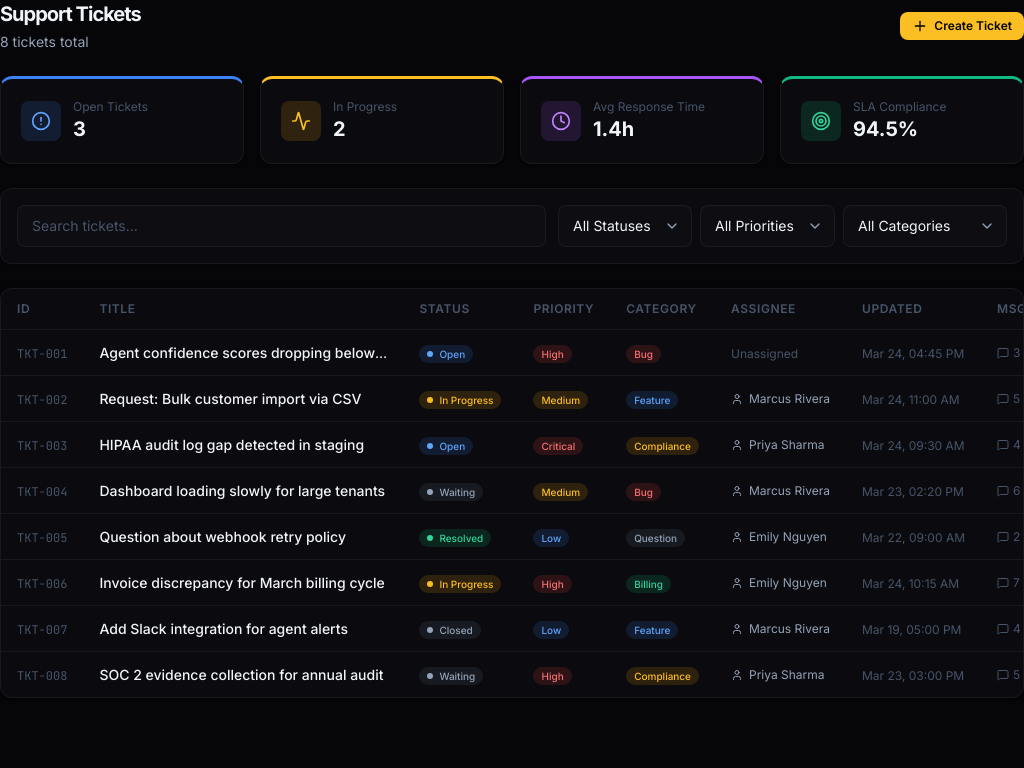
Tickets › opens create ticket modal
Click the button "Create Ticket". click: click(962, 26)
box: [900, 12, 1023, 40]
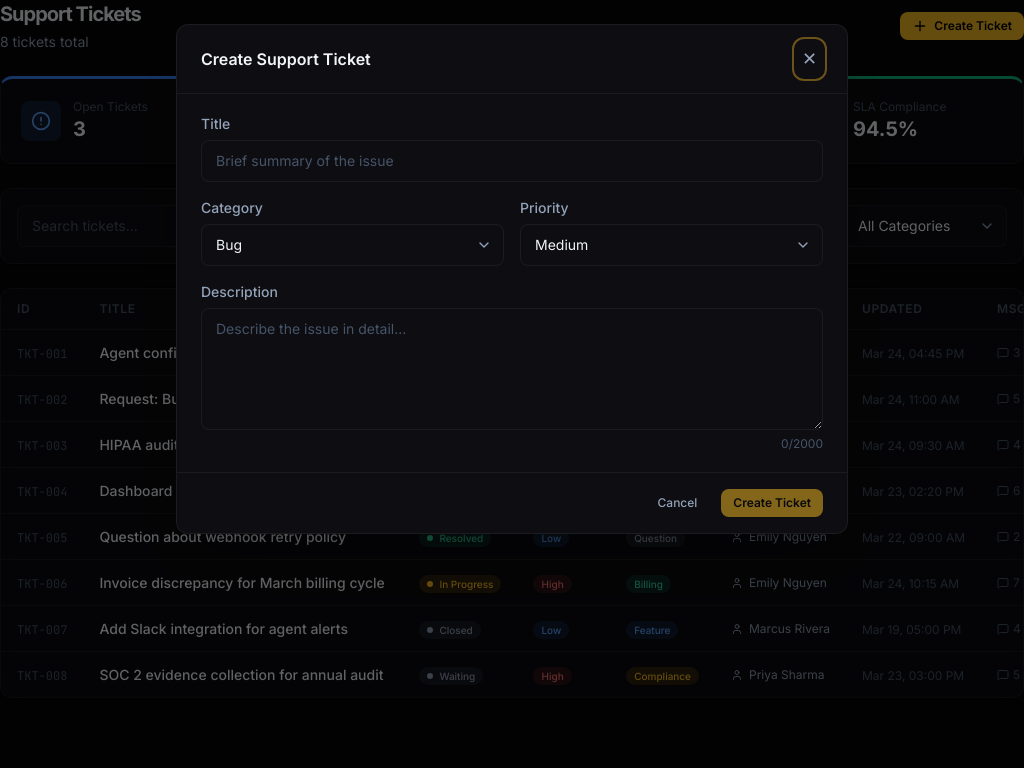
Check: the heading "Create Support Ticket" is shown, box [201, 47, 371, 71]
